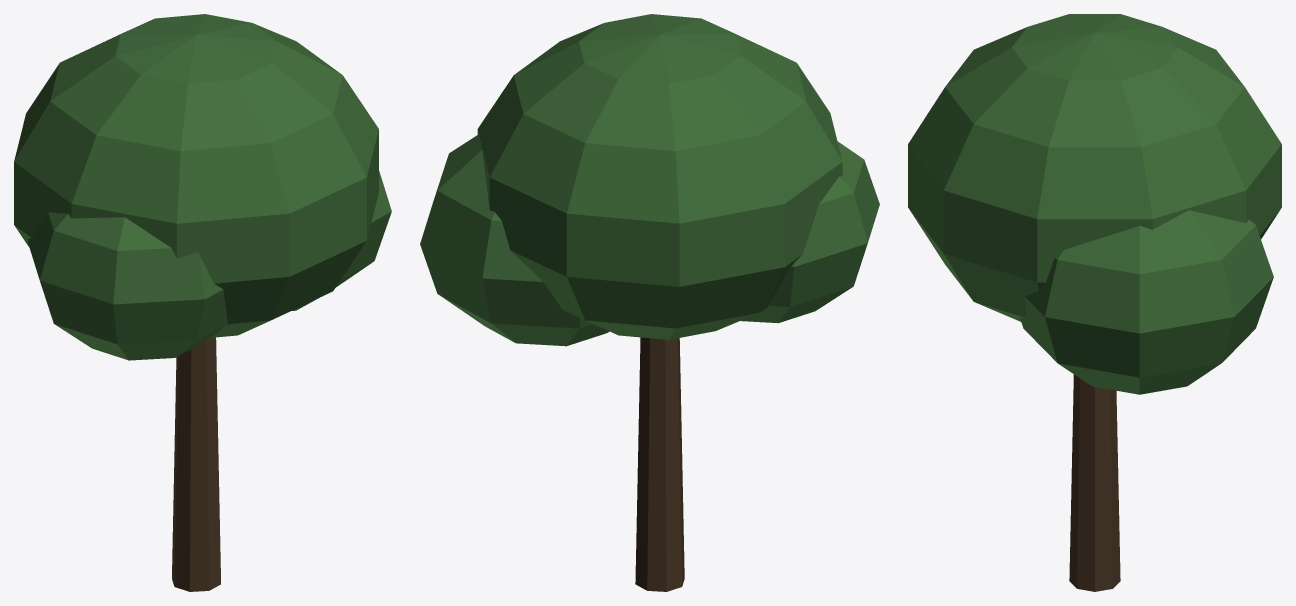
The model's file is prop_tree.glb.
The picture shows the model from 3 angles, left to right: view 1: azimuth 30°, elevation 25°; view 2: azimuth 150°, elevation 25°; view 3: azimuth 270°, elevation 25°; orthographic projection.
Parts seen in each view (by area): view 1: Canopy_A, Canopy_C, Trunk, Canopy_B; view 2: Canopy_A, Canopy_B, Trunk, Canopy_C; view 3: Canopy_A, Canopy_B, Trunk.
Boxes of the visible parts, x1,y1,x2,y2 form: Canopy_A: (14, 14, 378, 337); Canopy_C: (27, 212, 227, 360); Trunk: (172, 337, 220, 591); Canopy_B: (292, 171, 391, 310); Canopy_A: (477, 14, 842, 339); Canopy_B: (420, 135, 609, 346); Trunk: (635, 337, 684, 591); Canopy_C: (740, 141, 879, 323); Canopy_A: (908, 14, 1281, 321); Canopy_B: (1020, 210, 1273, 394); Trunk: (1069, 374, 1120, 591).
Size of the model in its own units: 3.5 by 4.73 by 2.92.
